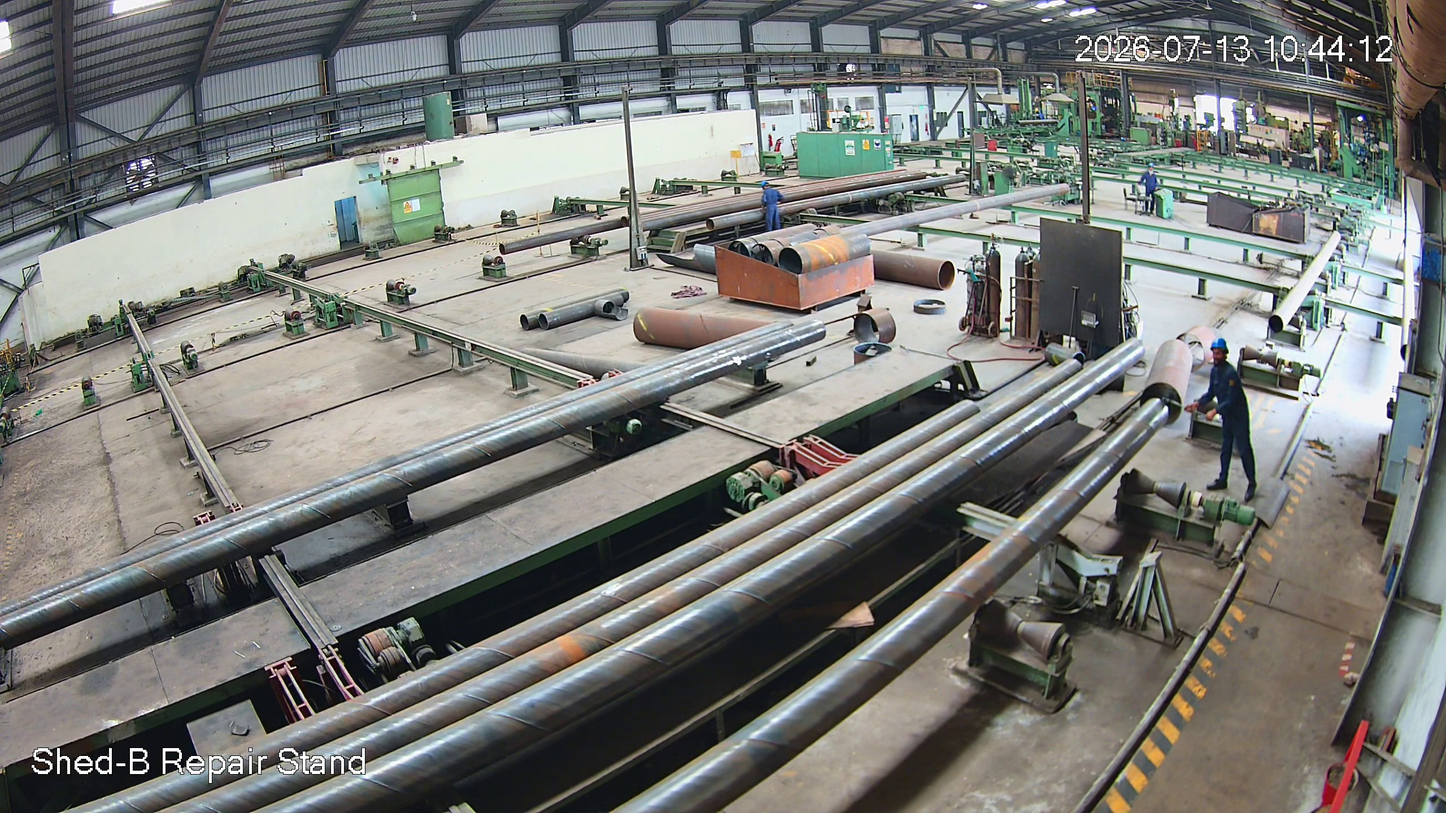Helmet: (1205, 337, 1239, 374)
Person: (1196, 339, 1261, 505)
